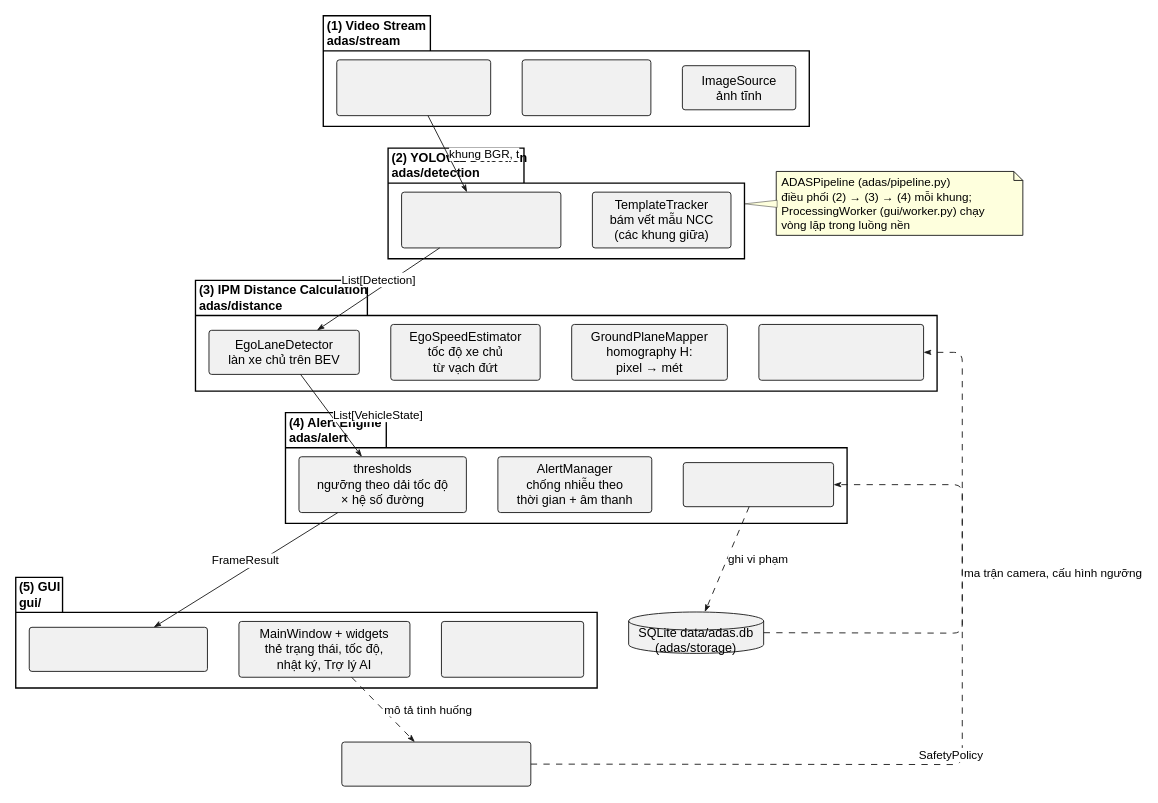
Image size: 1158x803. Some labels were removed from this diagram. Each missing label, with the centre of its shape:
CameraSource USB / RTSP, luồng đọc riêng: point 586,87
dialogs nguồn, căn chỉnh, cài đặt, lịch sử: point 512,649
DistanceEstimator + RangeKalman: d, tốc độ tiếp cận, TTC: point 841,352
rendering khung màu, banner, BEV: point 117,648
Trợ lý AI - adas/assistant (offline / Claude API): point 436,763
VehicleDetector YOLOv11 + ByteTrack (mỗi N khung): point 481,219
VideoFileSource file video, bám nhịp thời gian thực: point 413,87
ViolationRecorder nhật ký đợt vi phạm: point 758,484
